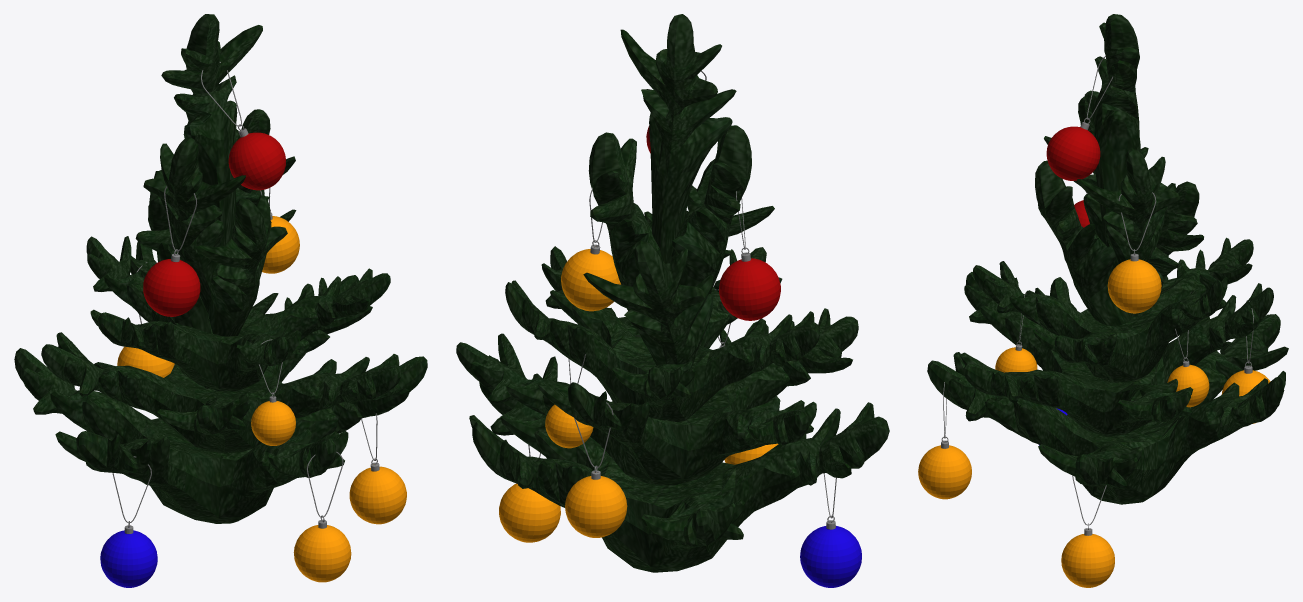
File: Arbol_navidaCuatro.obj
The picture shows the model from 3 angles, left to right: view 1: azimuth 30°, elevation 25°; view 2: azimuth 150°, elevation 25°; view 3: azimuth 270°, elevation 25°; orthographic projection. The views are drawn at different scales.
Visible parts, largest first — view 1: Christmas_Tree10, Christmas_Tree17, Christmas_Tree16, Christmas_Tree20, Christmas_Tree18, Christmas_Tree14, ball88, ball34, ball36, ball06, ball80, Christmas_Tree15 (+4 smaller); view 2: Christmas_Tree10, Christmas_Tree17, Christmas_Tree16, Christmas_Tree20, Christmas_Tree15, Christmas_Tree18, Christmas_Tree13, ball88, ball90, ball36, ball06, ball82 (+2 smaller); view 3: Christmas_Tree10, Christmas_Tree17, Christmas_Tree16, Christmas_Tree20, Christmas_Tree14, Christmas_Tree13, Christmas_Tree15, ball80, ball06, ball82, ball34, Christmas_Tree18 (+3 smaller).
Boxes of the visible parts, bbox=[...] form: Christmas_Tree10: bbox=[14, 293, 427, 523]; Christmas_Tree17: bbox=[41, 241, 401, 453]; Christmas_Tree16: bbox=[86, 190, 390, 391]; Christmas_Tree20: bbox=[161, 14, 262, 245]; Christmas_Tree18: bbox=[143, 137, 245, 312]; Christmas_Tree14: bbox=[194, 195, 287, 336]; ball88: bbox=[143, 259, 200, 316]; ball34: bbox=[293, 525, 351, 582]; ball36: bbox=[100, 530, 157, 587]; ball06: bbox=[349, 466, 406, 524]; ball80: bbox=[228, 132, 285, 190]; Christmas_Tree15: bbox=[135, 170, 212, 388]; Christmas_Tree10: bbox=[469, 321, 889, 572]; Christmas_Tree17: bbox=[456, 308, 858, 485]; Christmas_Tree16: bbox=[505, 246, 820, 422]; Christmas_Tree20: bbox=[620, 14, 736, 263]; Christmas_Tree15: bbox=[583, 240, 713, 365]; Christmas_Tree18: bbox=[670, 125, 751, 293]; Christmas_Tree13: bbox=[588, 132, 664, 286]; ball88: bbox=[719, 258, 780, 320]; ball90: bbox=[565, 476, 627, 537]; ball36: bbox=[800, 526, 861, 587]; ball06: bbox=[499, 483, 560, 542]; ball82: bbox=[561, 249, 620, 311]; Christmas_Tree10: bbox=[927, 277, 1288, 504]; Christmas_Tree17: bbox=[960, 272, 1273, 436]; Christmas_Tree16: bbox=[972, 237, 1253, 382]; Christmas_Tree20: bbox=[1084, 14, 1140, 243]; Christmas_Tree14: bbox=[1035, 160, 1131, 325]; Christmas_Tree13: bbox=[1077, 148, 1179, 312]; Christmas_Tree15: bbox=[1130, 181, 1203, 317]; ball80: bbox=[1046, 126, 1100, 180]; ball06: bbox=[1061, 534, 1114, 587]; ball82: bbox=[1107, 259, 1161, 313]; ball34: bbox=[918, 445, 971, 499]; Christmas_Tree18: bbox=[1044, 96, 1148, 246].
Bounding box in the file's own units: 8.85 × 12.5 × 8.38.
Materials: 6 (4 with a texture image).
